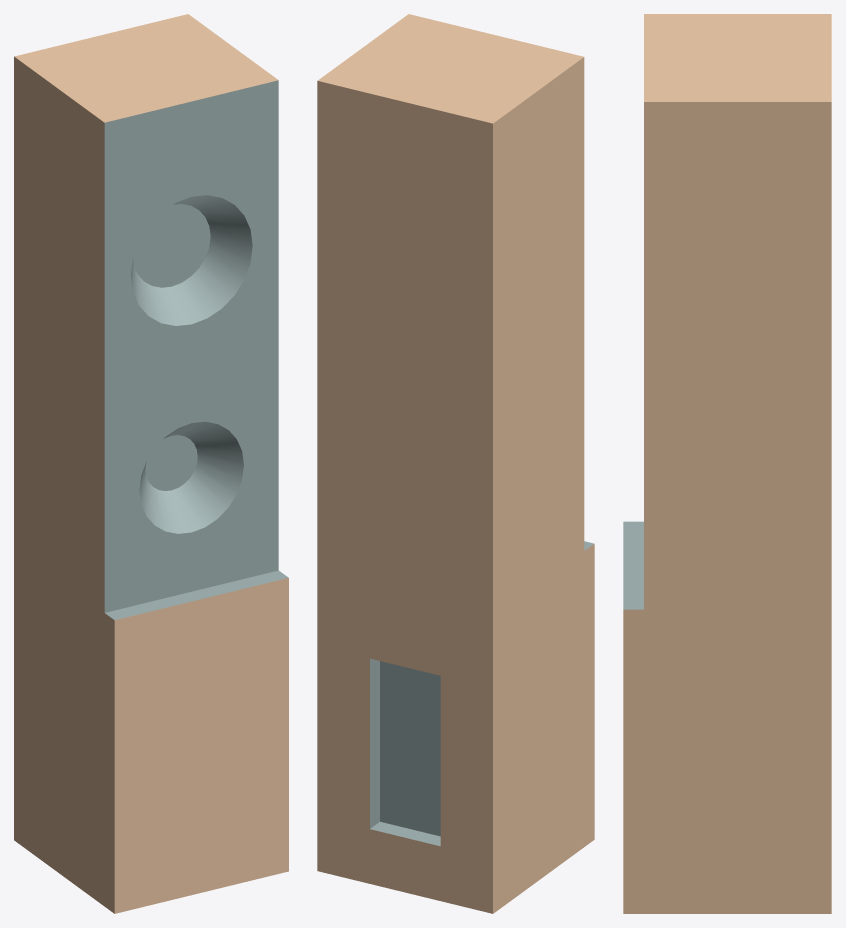
File: speaker.glb
3 renders of one model, left to right at view 1: azimuth 30°, elevation 25°; view 2: azimuth 150°, elevation 25°; view 3: azimuth 270°, elevation 25°, orthographic. The views are drawn at different scales.
Visible parts, largest first — view 1: speaker; view 2: speaker; view 3: speaker.
Boxes of the visible parts, x1=… form: speaker: x1=14, y1=14, x2=288, y2=913; speaker: x1=317, y1=14, x2=594, y2=913; speaker: x1=623, y1=14, x2=831, y2=913.
Bounding box in the file's own units: 0.148 × 0.6364 × 0.148.
